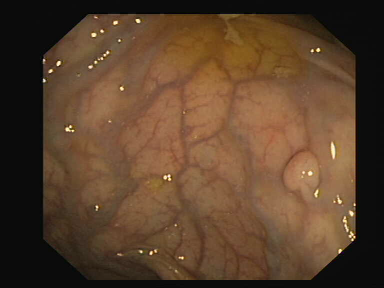polyp: (251, 134, 356, 216)
